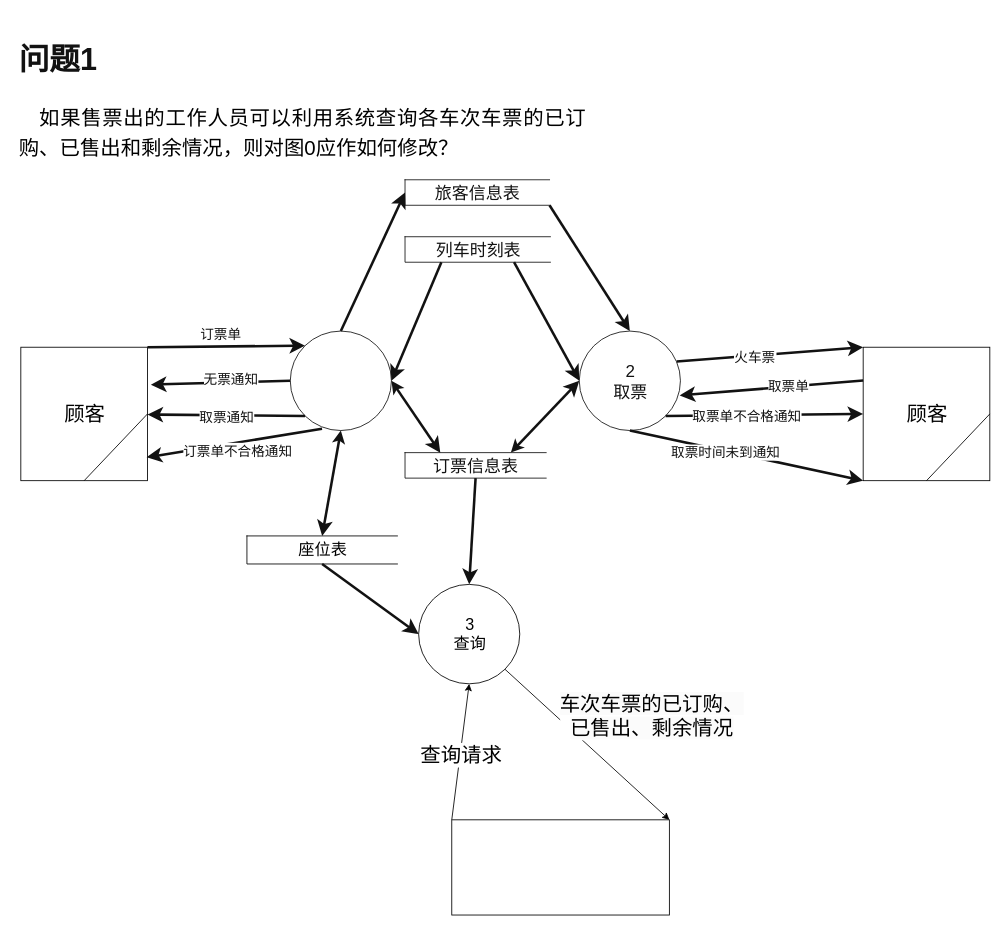
Image size: 1006x930. Some labels were removed from this diagram. Here are the shapes that lost their labels. From the top down, the centre of each, then its label:
At (x=340, y=380): "1 订票".
At (x=560, y=867): "工作人员".
